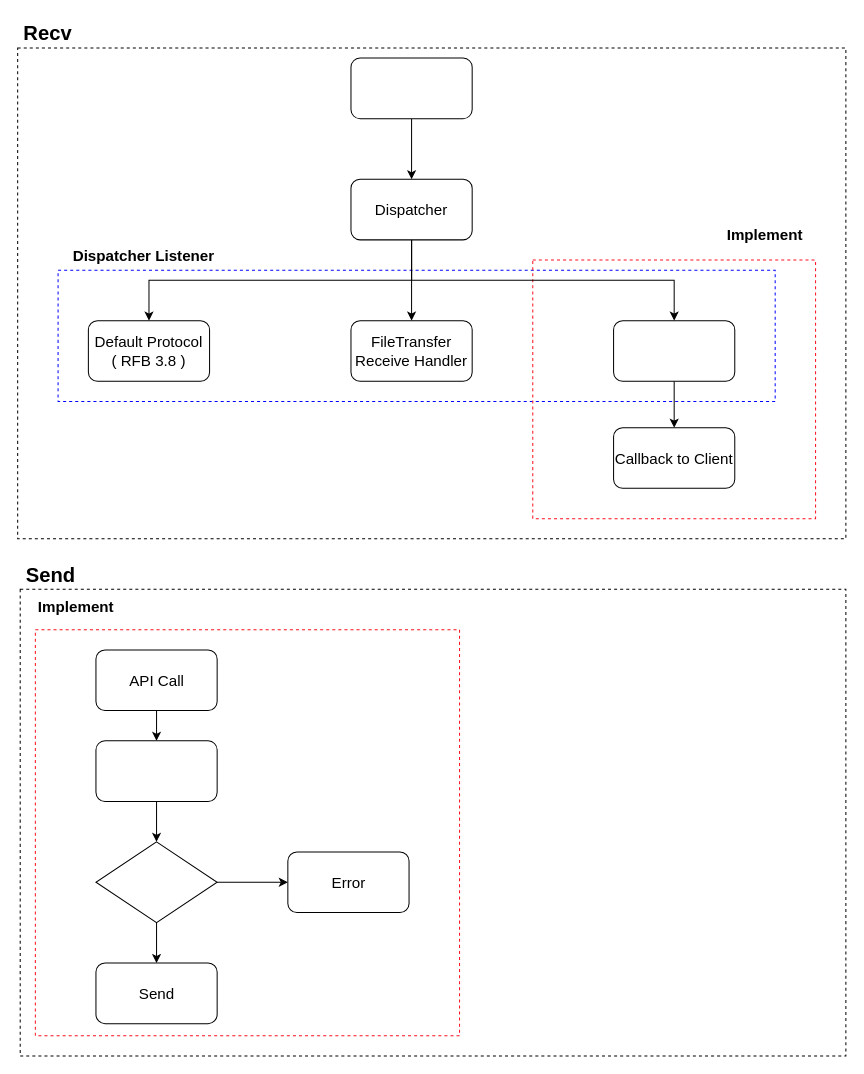
The diagram is 864 pixels wide and 1074 high, and some of its shapes have lost their labels. The centre of each missing label's shape, as x and y in pixels:
"Checking Capabilitys" belongs at point 156,882.
"Option Receive Handler" belongs at point 674,350.
"Option Send Handler" belongs at point 156,770.
"Receive" belongs at point 411,88.
